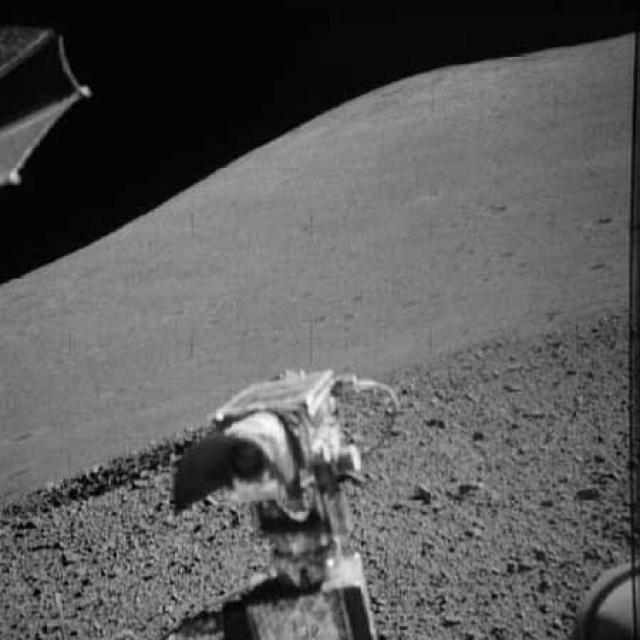artifact: (162, 350, 423, 639), (0, 14, 103, 196), (568, 548, 638, 638)
crater: (0, 400, 205, 524)
